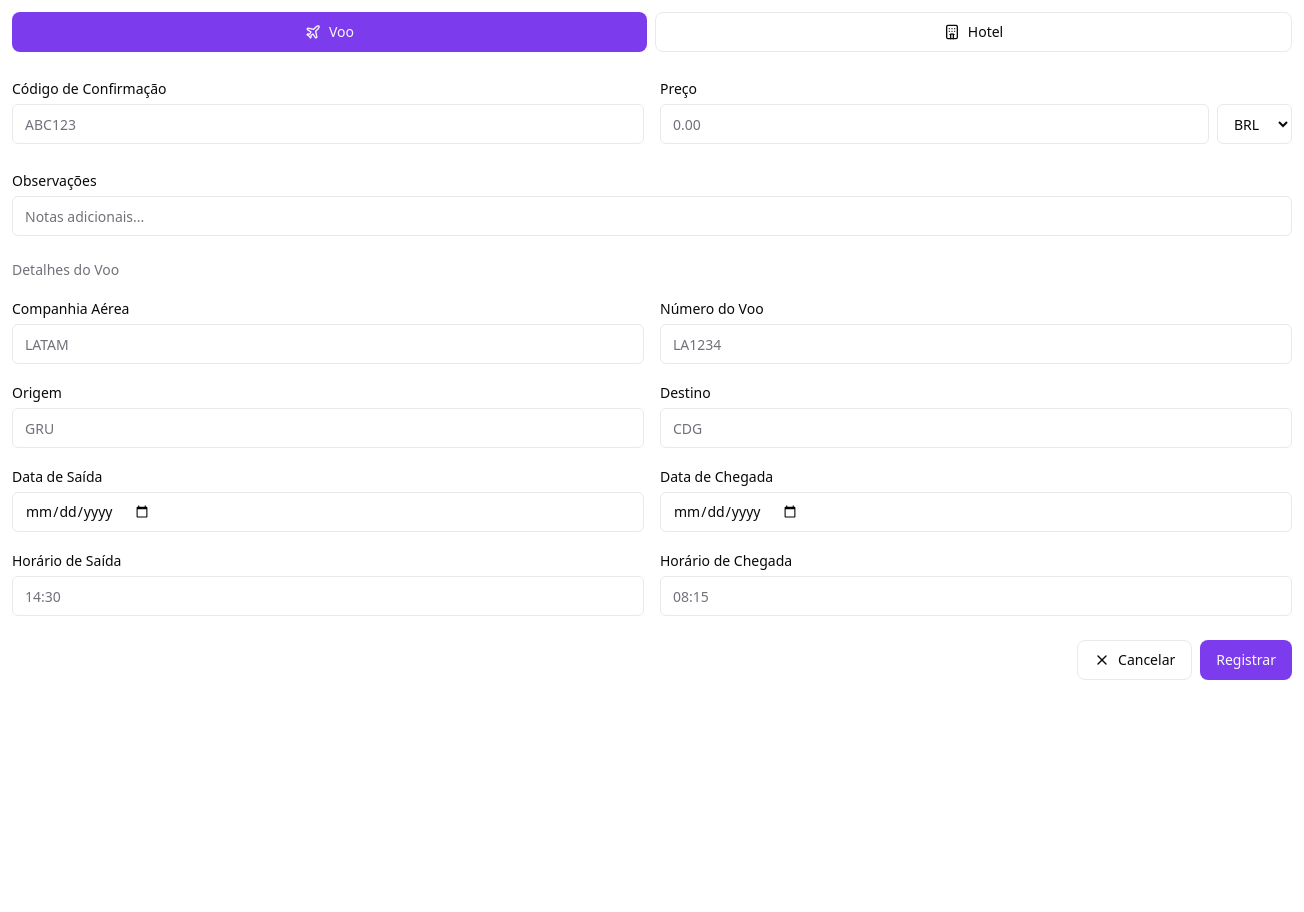
Scenario: BookingForm › should switch to hotel form when Hotel button is clicked
Click the button "Hotel": click(974, 32) [655,12,1292,52]
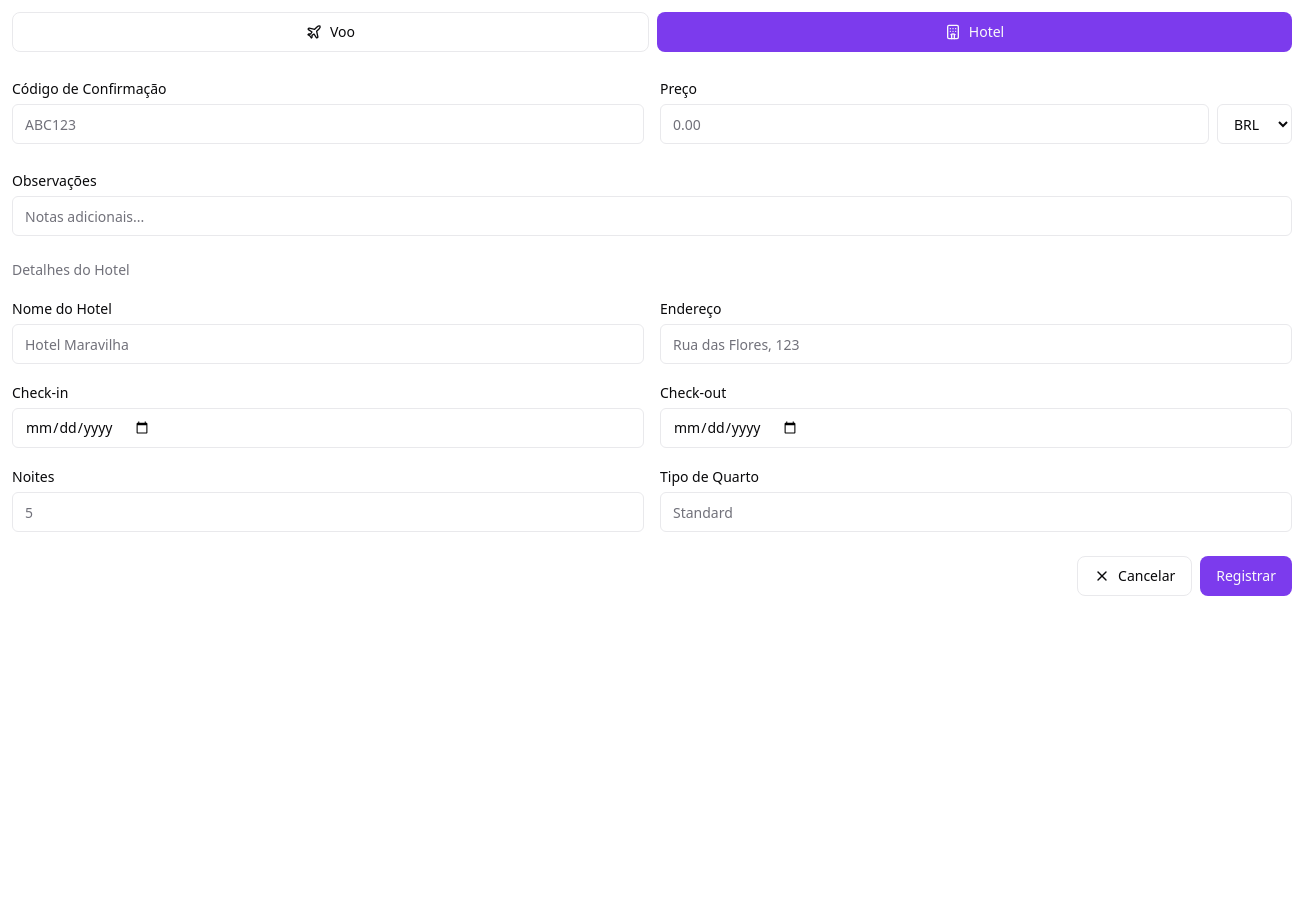
Expected: the text "Nome do Hotel" is shown, [12,299,112,318]
Expected: the text "Check-in" is shown, [12,383,68,402]
Expected: the text "Check-out" is shown, [660,383,726,402]
